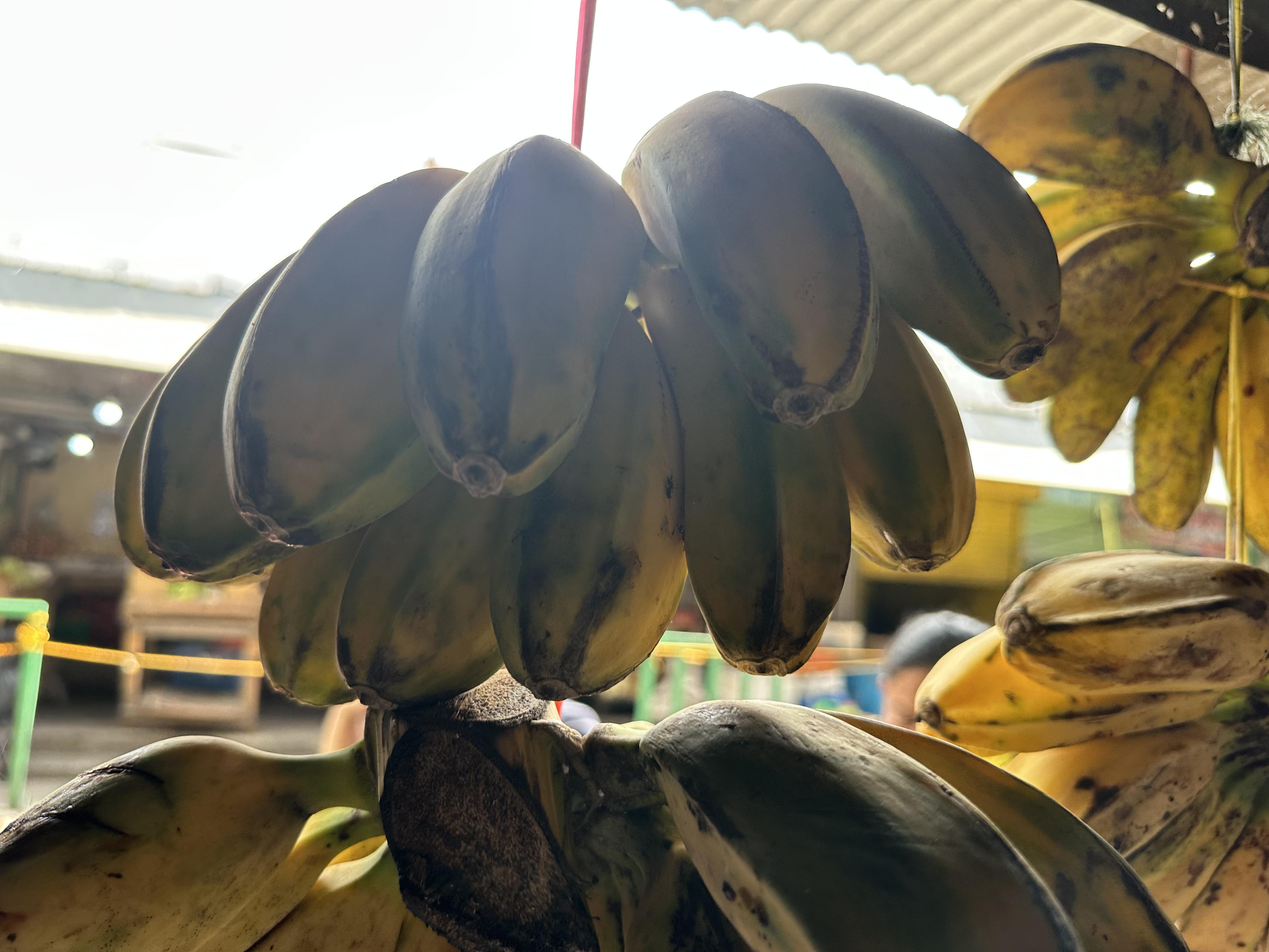ripe: (622, 697, 1201, 952), (915, 551, 1269, 952), (0, 735, 464, 952), (1241, 301, 1269, 551)
underripe: (116, 85, 1061, 709), (963, 44, 1230, 530)
